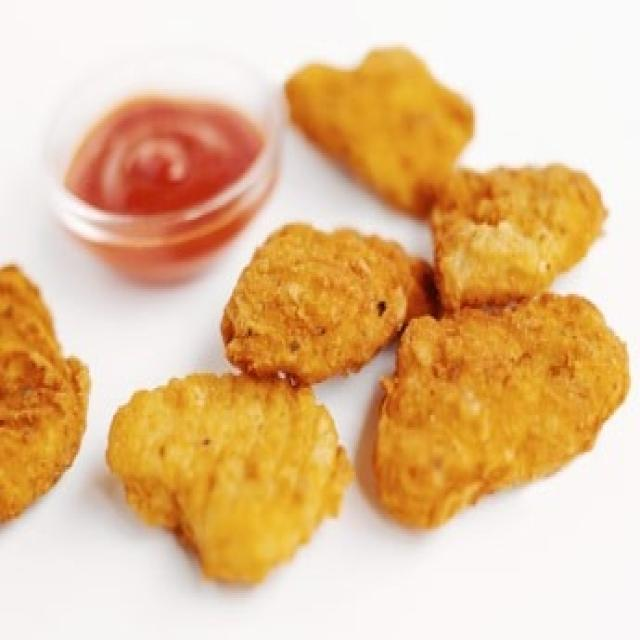鸡肉料理 含炸鸡: (11, 25, 627, 610)
